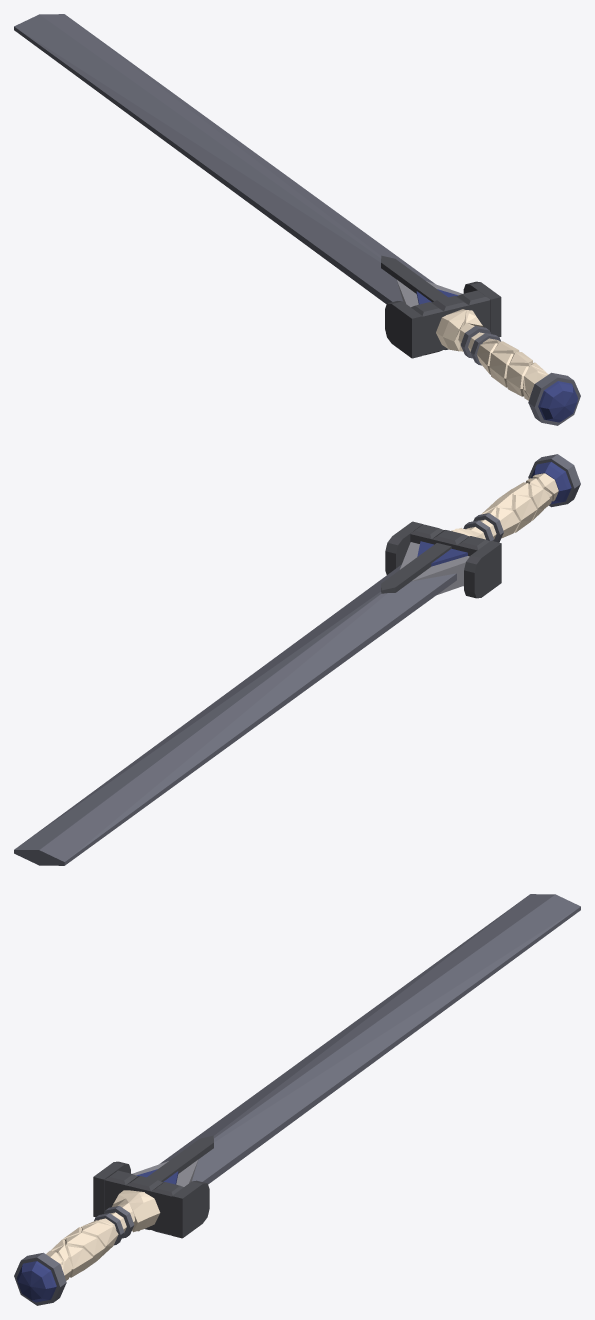
File: sword_17.glb
3 renders of one model, top to bottom at view 1: azimuth 30°, elevation 25°; view 2: azimuth 150°, elevation 25°; view 3: azimuth 330°, elevation 25°, orthographic.
Parts seen in each view (by area): view 1: sword_17; view 2: sword_17; view 3: sword_17.
Boxes of the visible parts, x1=… form: sword_17: x1=14, y1=14, x2=580, y2=425; sword_17: x1=14, y1=454, x2=580, y2=865; sword_17: x1=14, y1=894, x2=580, y2=1305.
Size of the model in its own units: 0.1341 by 0.0694 by 1.37.
1 material, 1 textured.
